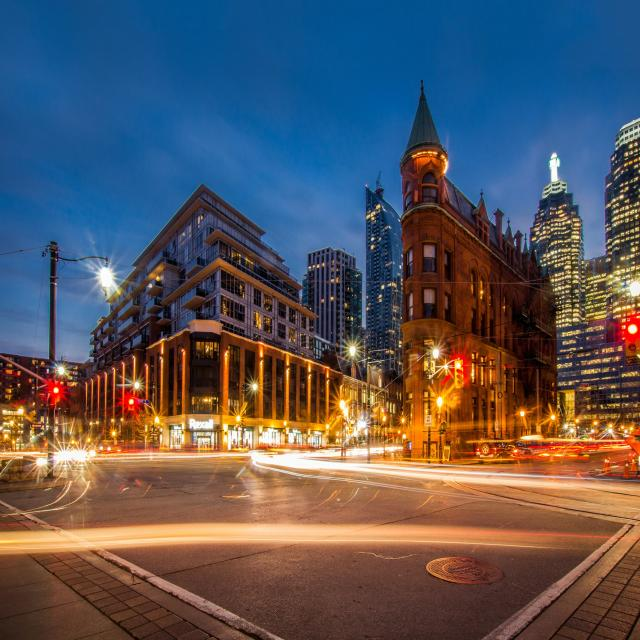Street Light: (45, 255, 112, 478), (349, 340, 372, 466), (135, 378, 156, 450), (428, 349, 440, 464), (240, 383, 258, 451)
